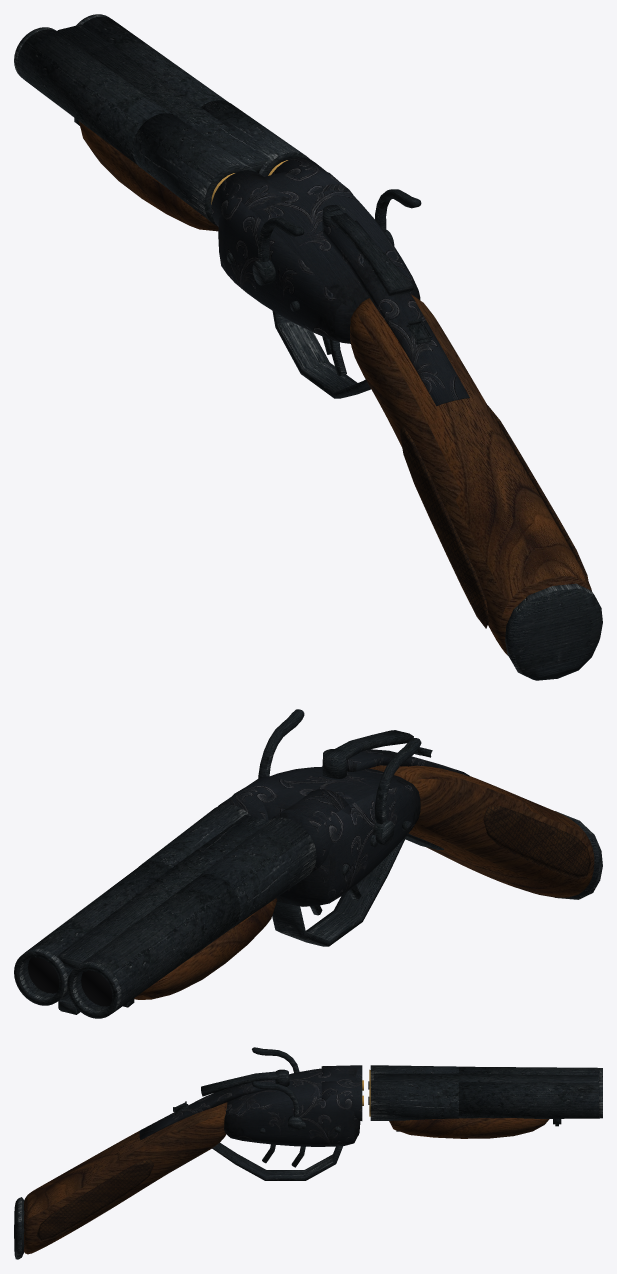
File: weapon_shotgun_90s.glb
3 renders of one model, top to bottom at view 1: azimuth 30°, elevation 25°; view 2: azimuth 150°, elevation 25°; view 3: azimuth 270°, elevation 25°, orthographic. The views are drawn at different scales.
Visible parts, largest first — view 1: ErgonomicWalnutGrip; view 2: ErgonomicWalnutGrip; view 3: ErgonomicWalnutGrip.
Part boxes in pixels (x1,y1,x2,y2): ErgonomicWalnutGrip: (14,14,602,680); ErgonomicWalnutGrip: (14,709,602,1018); ErgonomicWalnutGrip: (14,1047,602,1259).
Bounding box in the file's own units: 0.0544 × 0.1284 × 0.3599.
8 materials, 6 textured.
